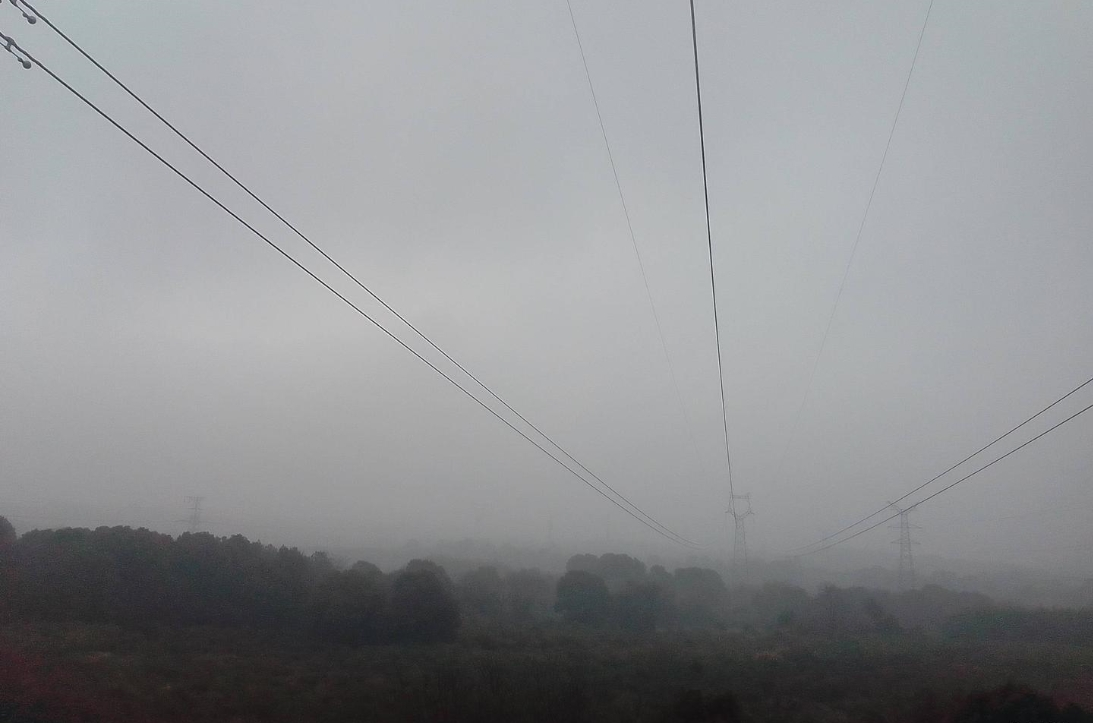山间云雾: (0, 473, 1093, 691)
